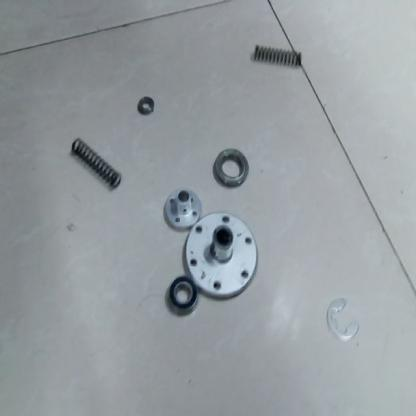FOD: (184, 208, 266, 305), (68, 137, 122, 197), (162, 184, 203, 230), (326, 296, 362, 348), (252, 38, 304, 72), (213, 145, 250, 190), (165, 276, 201, 320), (137, 93, 158, 119)
